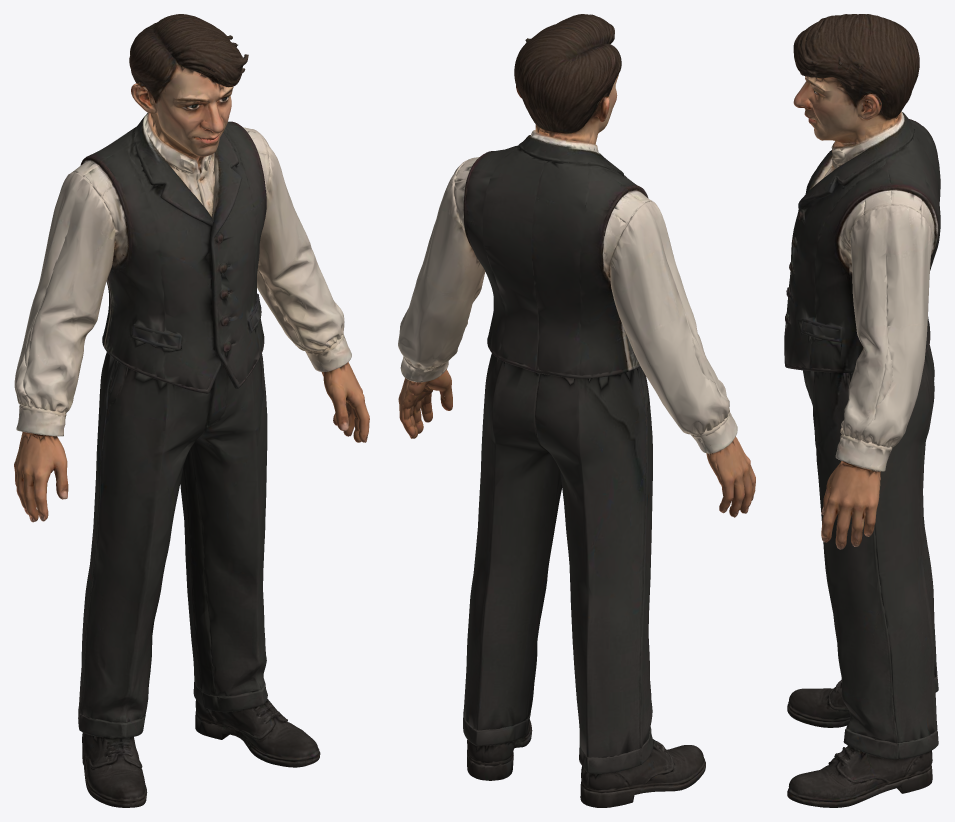
The model's file is picasso.glb.
3 views of the same model, side by side, from view 1: azimuth 30°, elevation 25°; view 2: azimuth 150°, elevation 25°; view 3: azimuth 270°, elevation 25° (orthographic).
Visible parts, largest first — view 1: tripo_node_740c9f20-2fe5-4ef3-ac24-2fec85da258f; view 2: tripo_node_740c9f20-2fe5-4ef3-ac24-2fec85da258f; view 3: tripo_node_740c9f20-2fe5-4ef3-ac24-2fec85da258f.
Boxes of the visible parts, x1,y1,x2,y2 form: tripo_node_740c9f20-2fe5-4ef3-ac24-2fec85da258f: (14, 14, 369, 807); tripo_node_740c9f20-2fe5-4ef3-ac24-2fec85da258f: (398, 14, 755, 807); tripo_node_740c9f20-2fe5-4ef3-ac24-2fec85da258f: (784, 14, 940, 807).
Bounding box in the file's own units: 0.4705 × 0.9799 × 0.1881.
1 material, 1 textured.
